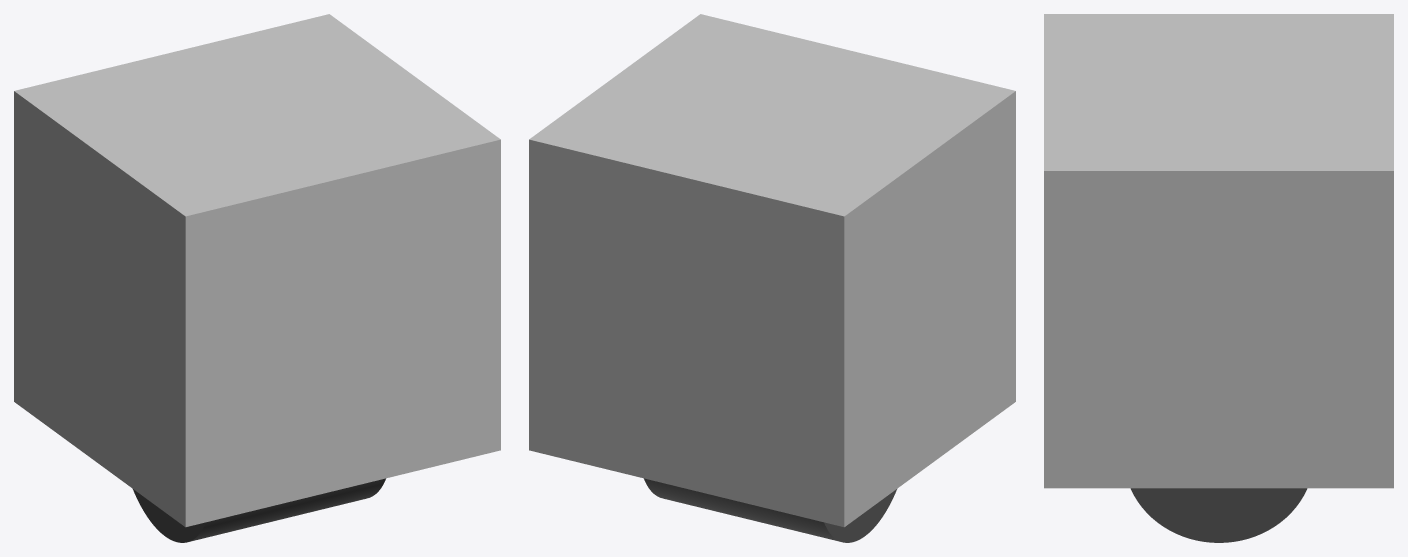
The model's file is coso.gltf.
3 renders of one model, left to right at view 1: azimuth 30°, elevation 25°; view 2: azimuth 150°, elevation 25°; view 3: azimuth 270°, elevation 25°, orthographic. The views are drawn at different scales.
Parts seen in each view (by area): view 1: mesh_id27, mesh_id29; view 2: mesh_id27, mesh_id29; view 3: mesh_id27, mesh_id29.
Part boxes in pixels (x1,y1,x2,y2): mesh_id27: [14, 14, 500, 527]; mesh_id29: [133, 478, 385, 542]; mesh_id27: [529, 14, 1015, 527]; mesh_id29: [644, 478, 896, 542]; mesh_id27: [1044, 14, 1393, 488]; mesh_id29: [1130, 488, 1307, 542].
Bounding box in the file's own units: 0.1845 × 0.2227 × 0.1737.
